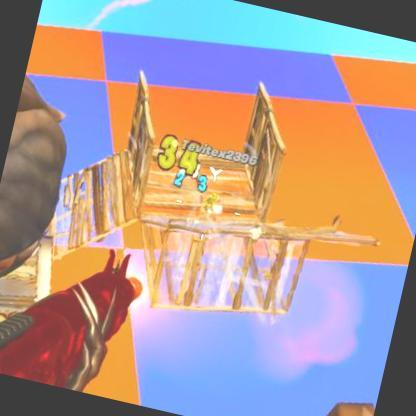person: (200, 194, 224, 212)
